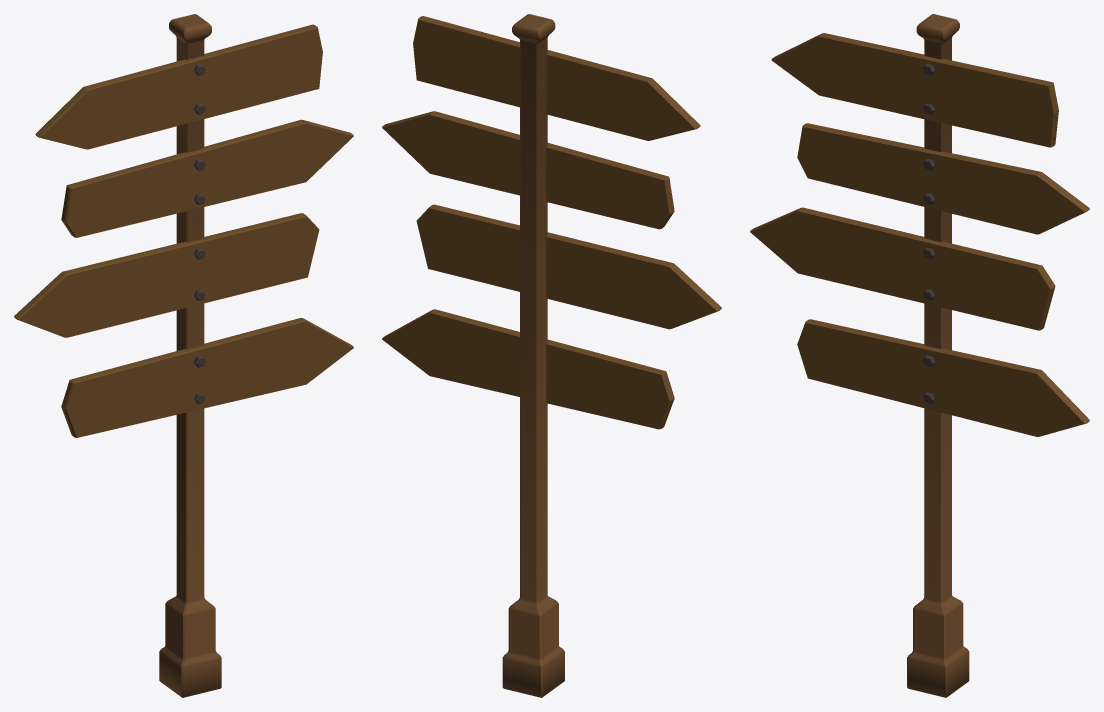
Rendered from props_78.gltf.
The picture shows the model from 3 angles, left to right: view 1: azimuth 30°, elevation 25°; view 2: azimuth 150°, elevation 25°; view 3: azimuth 330°, elevation 25°; orthographic projection.
Visible parts, largest first — view 1: props_78; view 2: props_78; view 3: props_78.
Boxes of the visible parts, x1=… form: props_78: x1=14, y1=14, x2=353, y2=697; props_78: x1=382, y1=14, x2=721, y2=697; props_78: x1=750, y1=14, x2=1089, y2=697.
Size of the model in its own units: 1.48 by 2.79 by 0.1777.
1 material, 1 textured.
